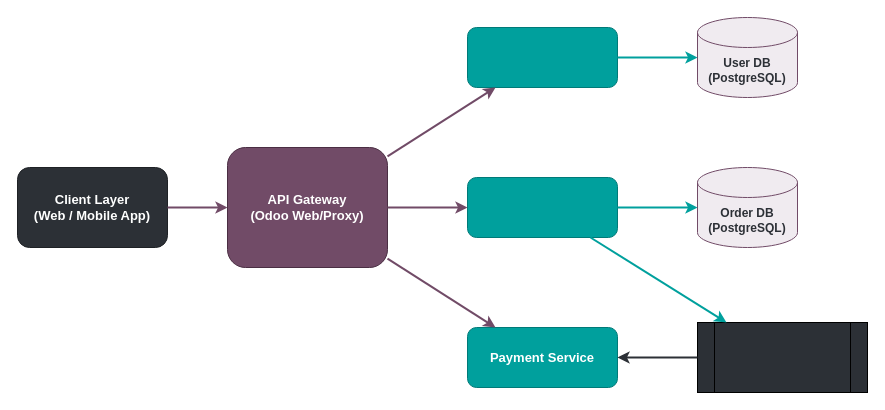
Image size: 885x410. Some labels were removed from this diagram. The shapes that lost their labels are listed below. From the top down, each one's centre as x and y in pixels, then its label:
the point at 542,57: User Service
the point at 542,207: Order Service
the point at 782,357: Event Broker (RabbitMQ / Kafka)
